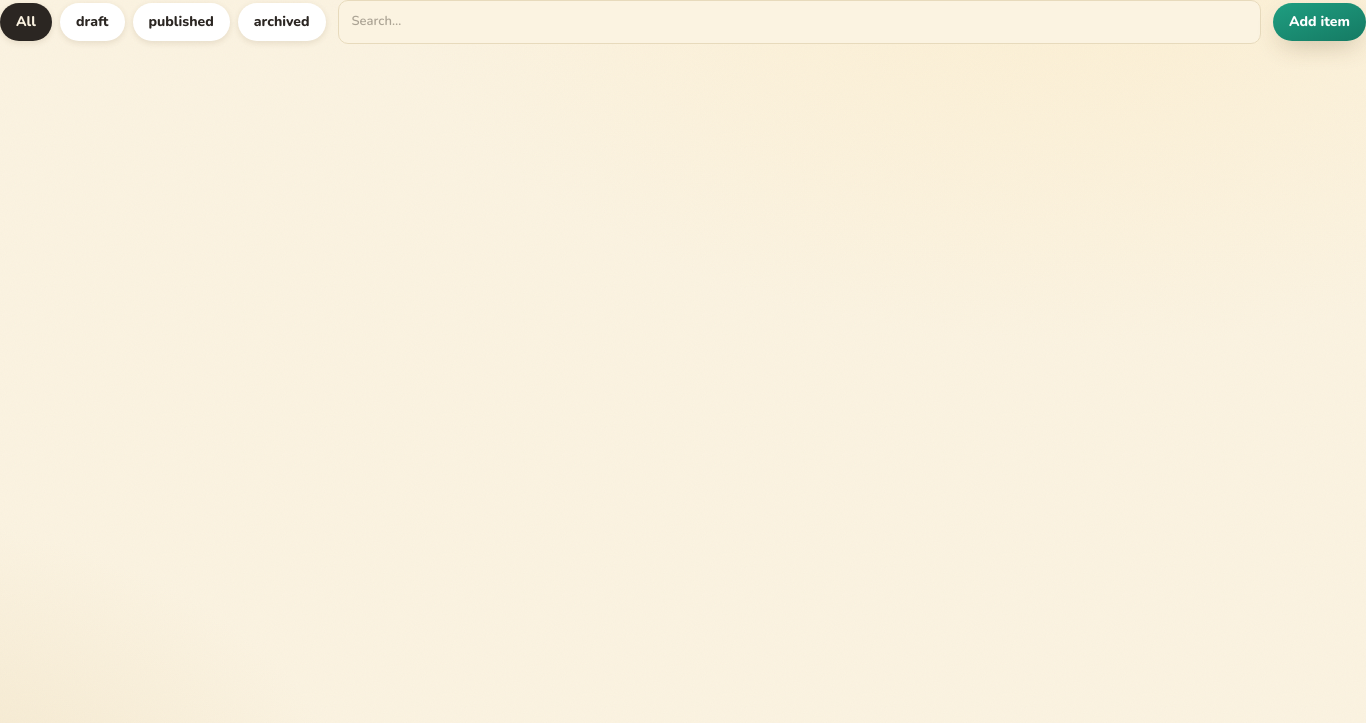
it: AdminNewsScreen › shows manual fallback when preview fails
Click the button "Add item".
click(1320, 22)  # box [1273,3,1365,41]
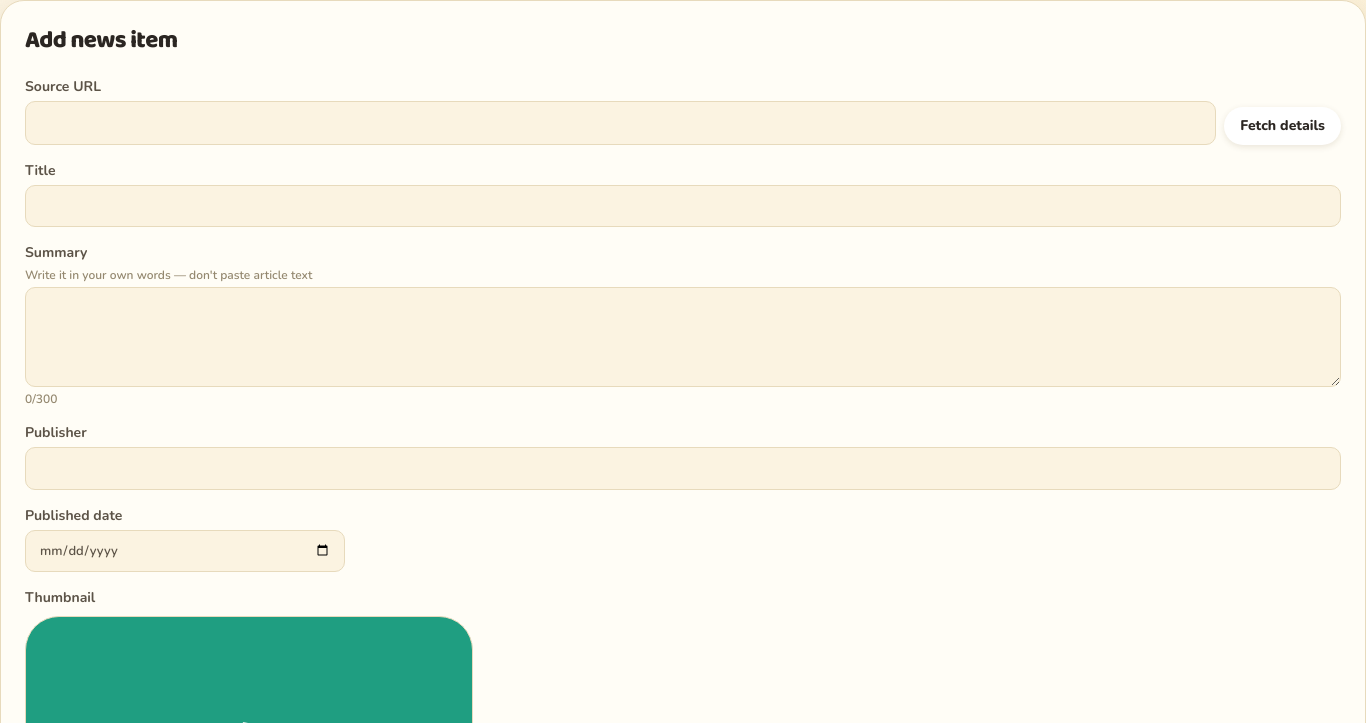
Type "https://example.com/x" into the field labelled "Source URL".
click(621, 123); type("https://example.com/x")  # box [25,101,1216,144]
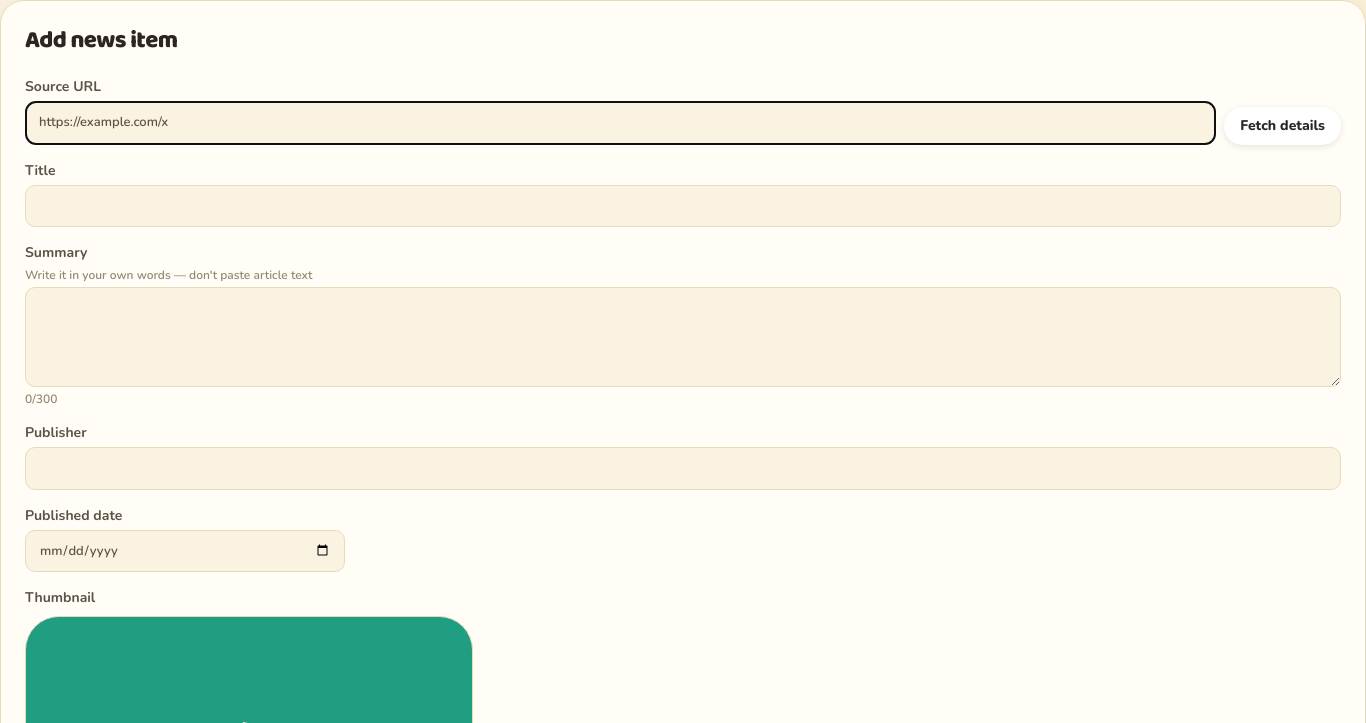
Click the button "Fetch details".
click(1283, 126)  # box [1224,106,1341,144]
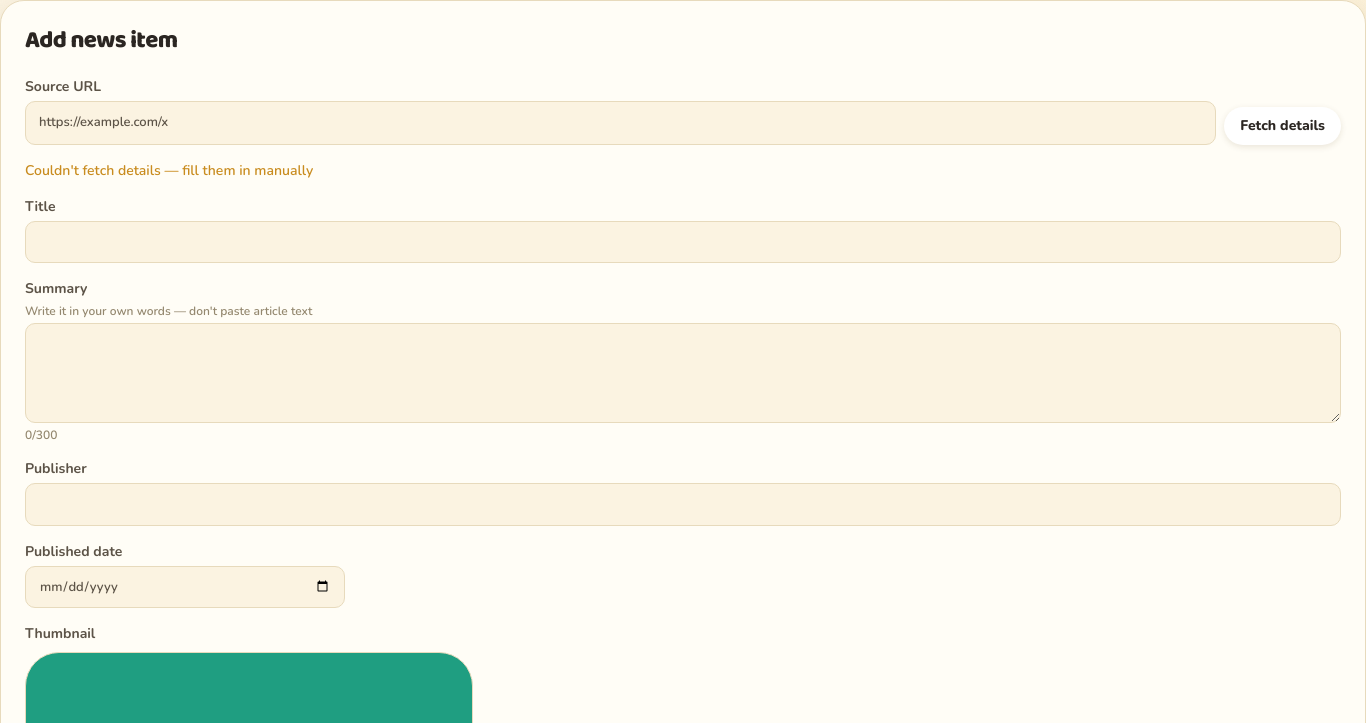
Expected: the text "Couldn't fetch details — fill them in manually" is shown, [25,160,313,180]
